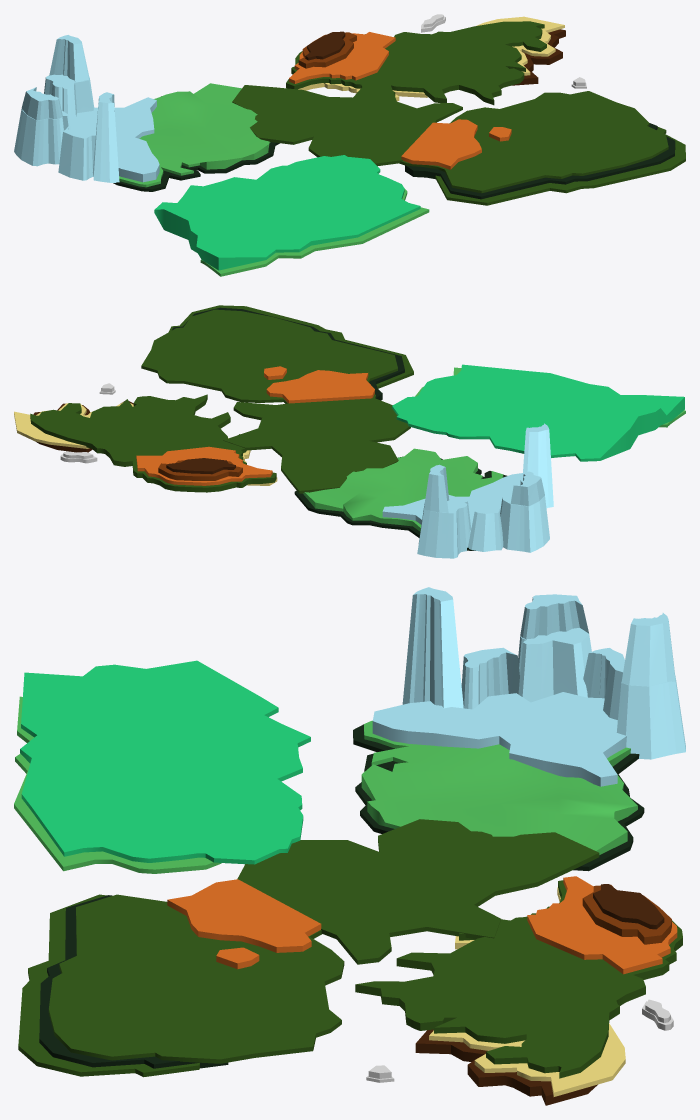
The picture shows the model from 3 angles, top to bottom: view 1: azimuth 30°, elevation 25°; view 2: azimuth 150°, elevation 25°; view 3: azimuth 270°, elevation 25°; orthographic projection. The views are drawn at different scales.
Visible parts, largest first — view 1: Line008, Line010, Line011, Line001, Line012; view 2: Line008, Line010, Line011, Line001, Line012; view 3: Line008, Line011, Line010, Line001, Line012.
Boxes of the visible parts, x1,y1,x2,y2 form: Line008: [14, 35, 279, 191]; Line010: [399, 91, 685, 205]; Line011: [154, 155, 429, 276]; Line001: [286, 16, 565, 105]; Line012: [232, 82, 462, 166]; Line008: [294, 423, 553, 558]; Line010: [141, 305, 413, 403]; Line011: [392, 364, 685, 461]; Line001: [14, 394, 277, 492]; Line012: [223, 397, 410, 493]; Line008: [353, 587, 685, 871]; Line011: [14, 660, 310, 873]; Line010: [18, 879, 344, 1077]; Line001: [355, 876, 682, 1105]; Line012: [237, 819, 599, 964].
Size of the model in its own units: 5994 by 914 by 4109.
